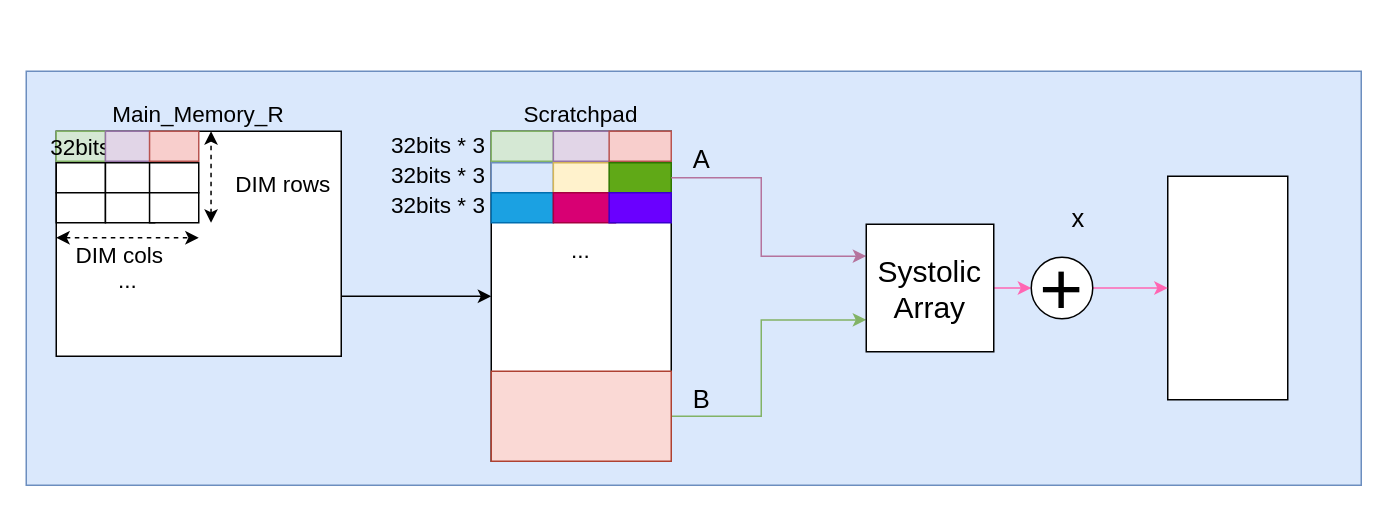
The diagram is 1388 pixels wide and 512 high, and some of its shapes have lost their labels. Here are the shapes that lost their labels. From the top down, the centre of each, then its label:
At pixel 1227 287: "Accumulator_R".
At pixel 580 415: "Weight".
